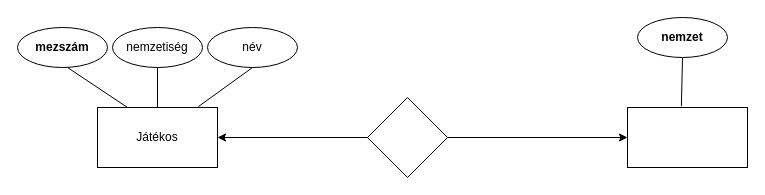
The diagram is 765 pixels wide and 195 high, and some of its shapes have lost their labels. The centre of each missing label's shape, as x and y in pixels:
"J-Cs" belongs at point (407, 137).
"Válogatott csapat" belongs at point (687, 137).
